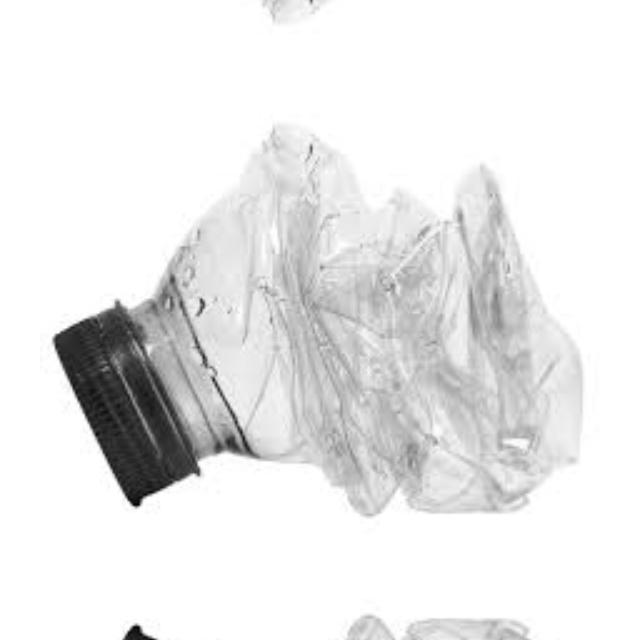Plastic: (48, 111, 610, 543), (47, 588, 610, 640), (47, 0, 610, 35)
